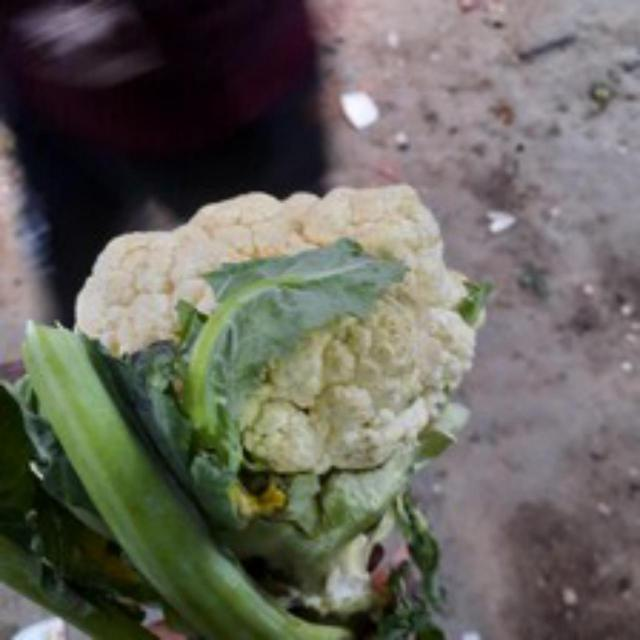cauliflower: (76, 156, 539, 482)
